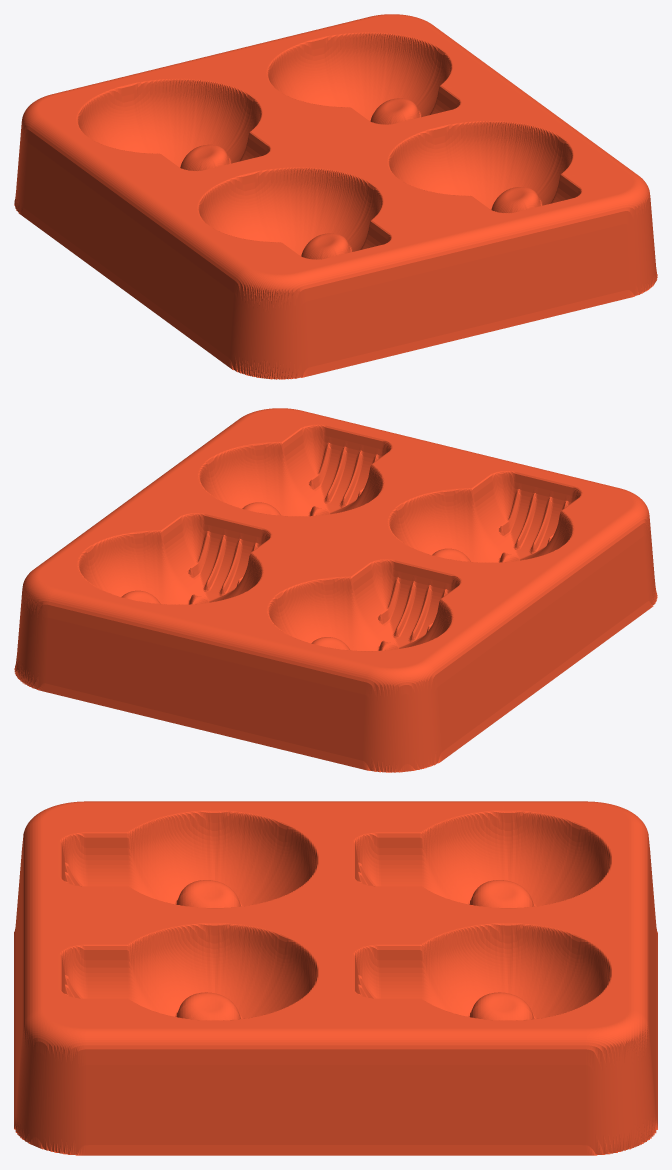
The model's file is mold.glb.
3 renders of one model, top to bottom at view 1: azimuth 30°, elevation 25°; view 2: azimuth 150°, elevation 25°; view 3: azimuth 270°, elevation 25°, orthographic. The views are drawn at different scales.
Visible parts, largest first — view 1: geometry_0; view 2: geometry_0; view 3: geometry_0.
Boxes of the visible parts, x1,y1,x2,y2 form: geometry_0: (14, 14, 657, 379); geometry_0: (14, 408, 657, 772); geometry_0: (14, 801, 657, 1155).
Bounding box in the file's own units: 0.074 × 0.0159 × 0.0808.
